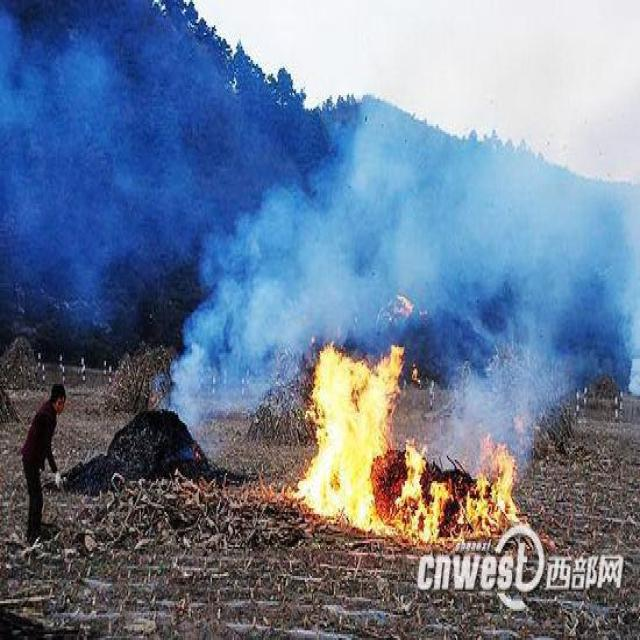fire: (307, 329, 518, 542)
